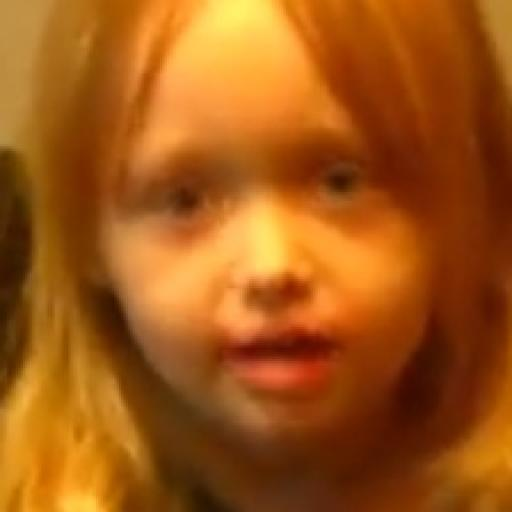Autism: (43, 18, 512, 510)
